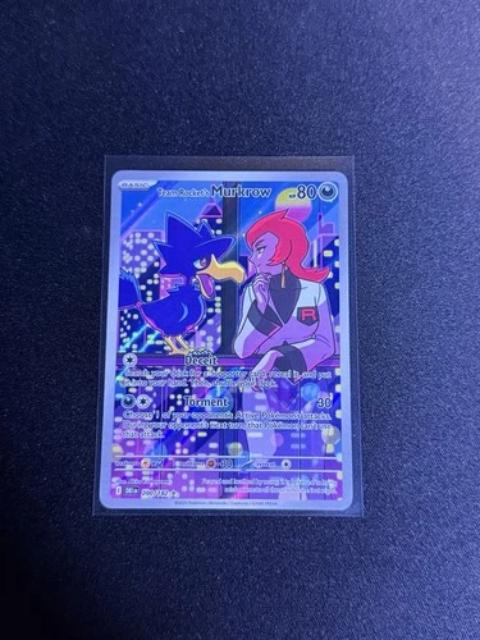Card: (97, 167, 359, 515)
Name: (155, 181, 276, 203)
